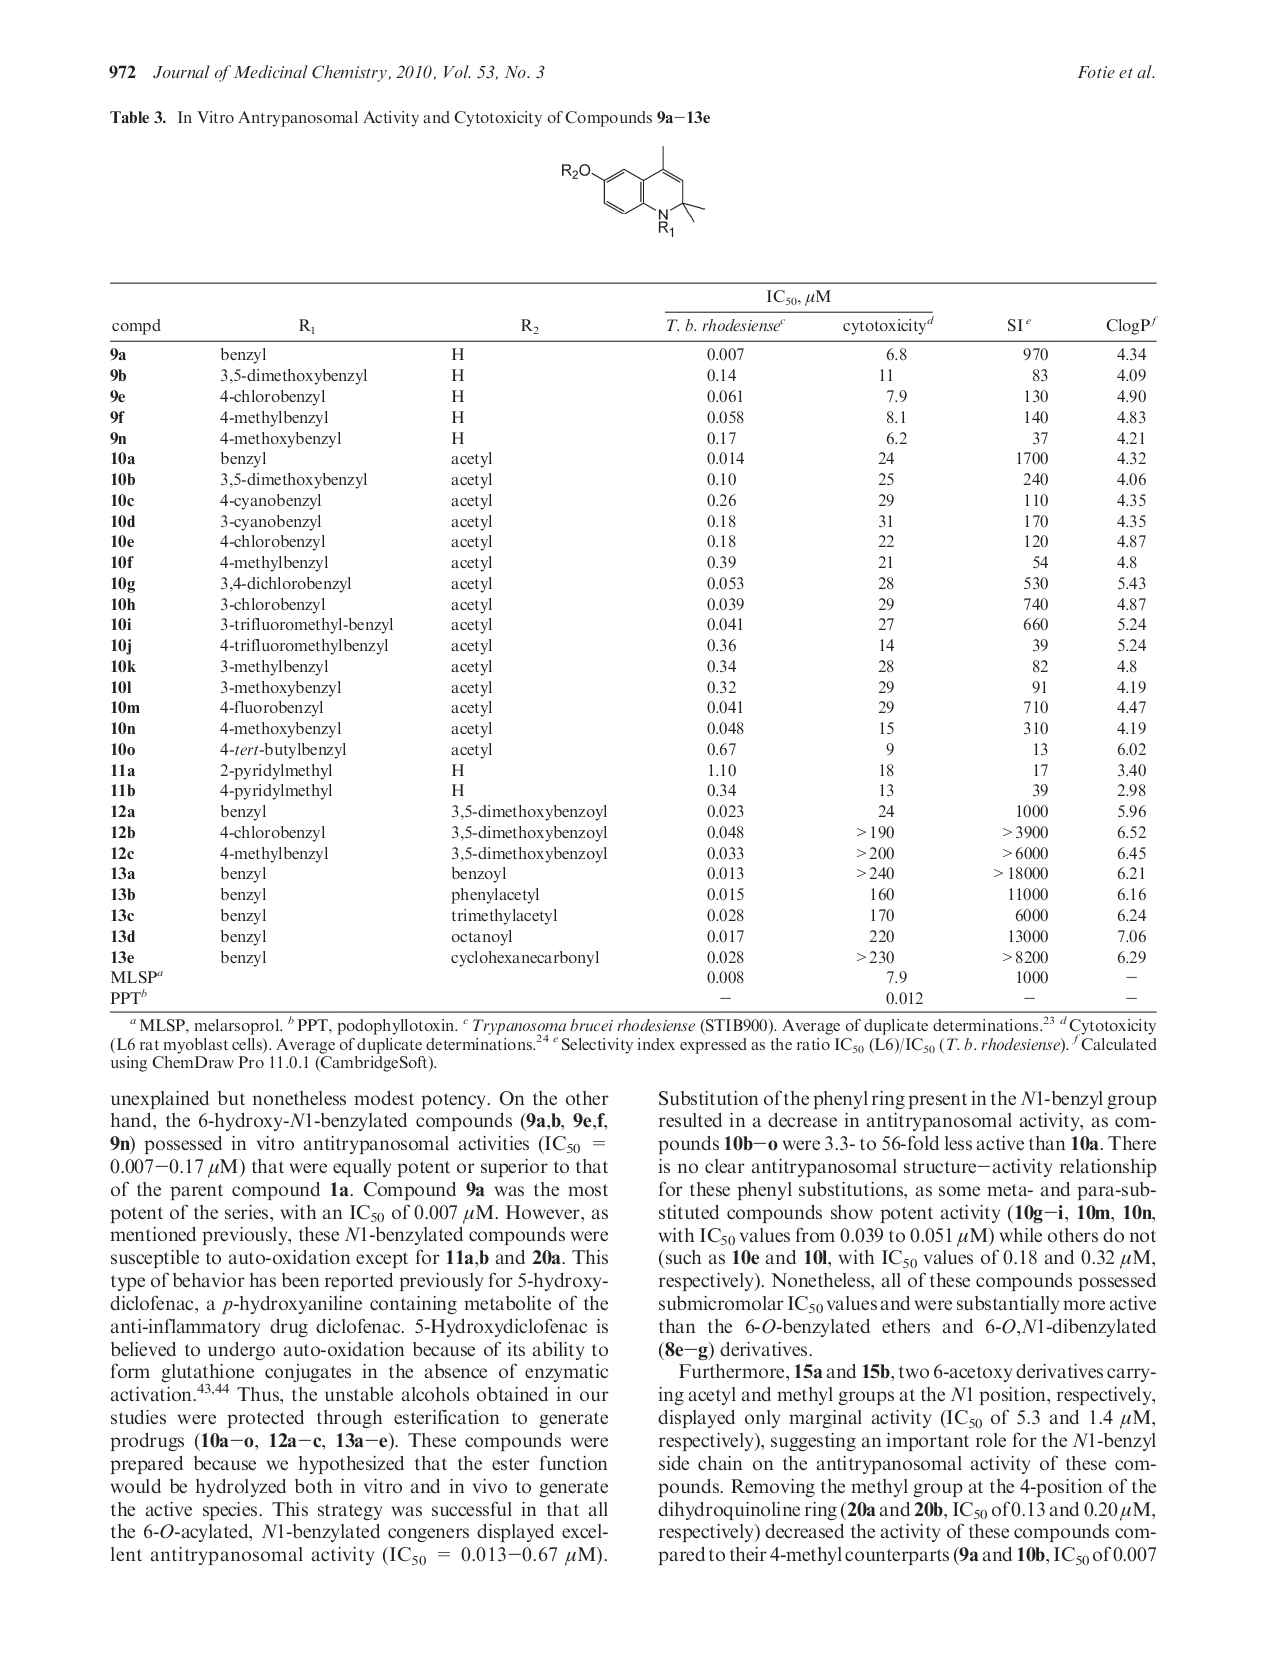exist_molecular: (559, 144, 706, 237)
